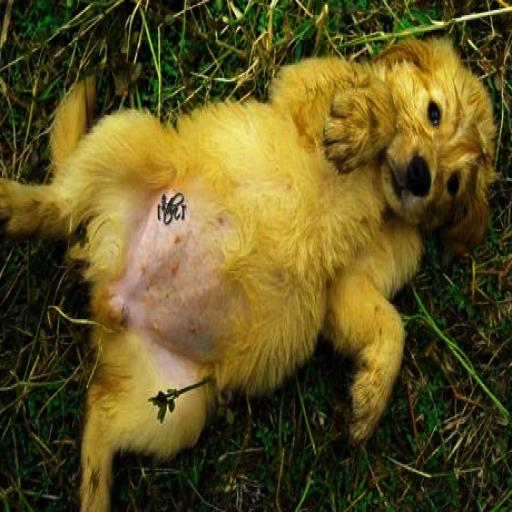dog_face: (355, 41, 506, 245)
